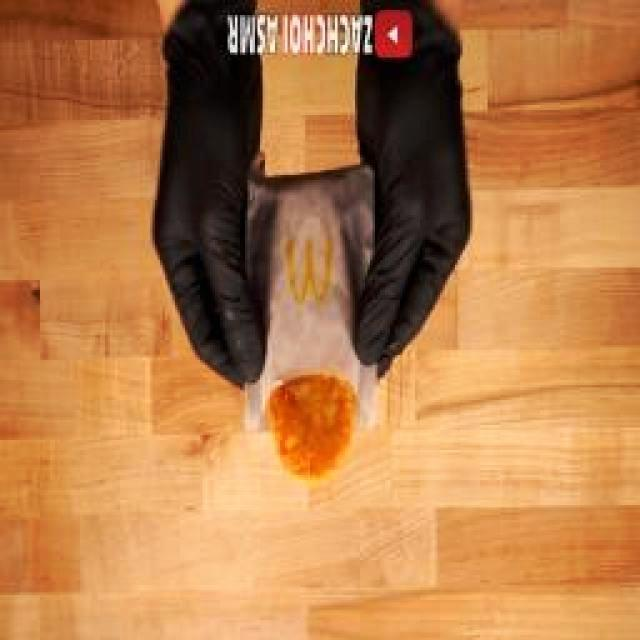Hashbrown: (267, 374, 359, 477)
